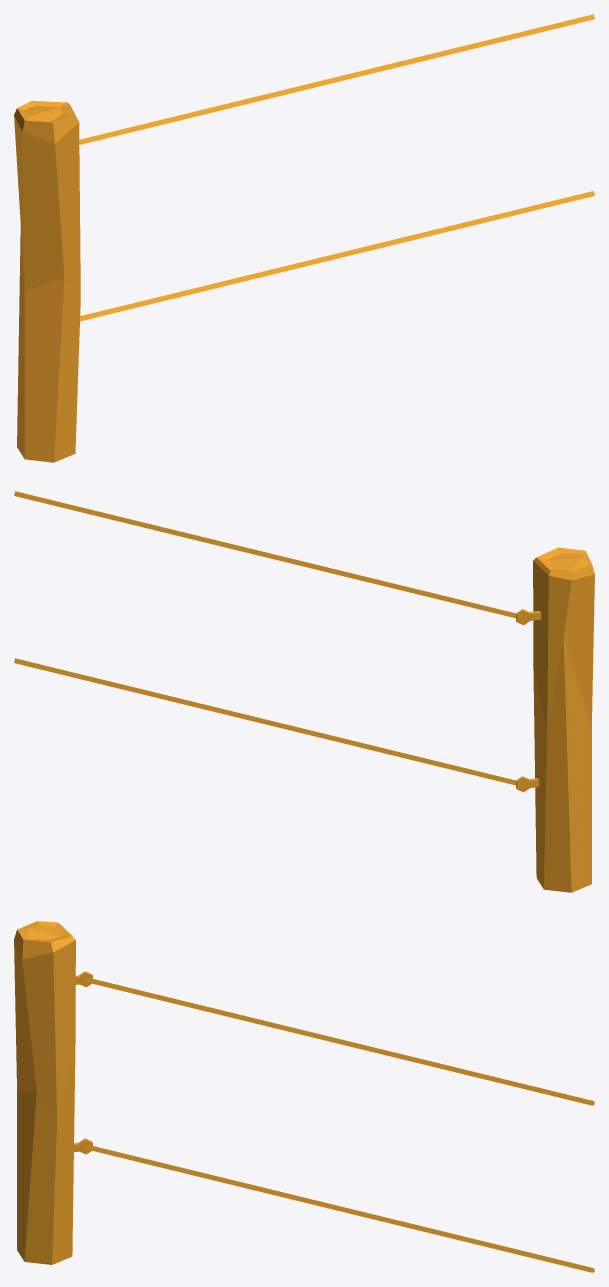
The model's file is SM_Fence_Electric_2m_A.fbx.
3 views of the same model, one above another, from view 1: azimuth 30°, elevation 25°; view 2: azimuth 150°, elevation 25°; view 3: azimuth 330°, elevation 25° (orthographic). The views are drawn at different scales.
Visible parts, largest first — view 1: fence-electric-2m-a; view 2: fence-electric-2m-a; view 3: fence-electric-2m-a.
Part boxes in pixels (x1,y1,x2,y2): fence-electric-2m-a: (14,14,594,462); fence-electric-2m-a: (14,491,594,892); fence-electric-2m-a: (14,921,594,1272).
Bounding box in the file's own units: 2.2 × 1.22 × 0.2317.
